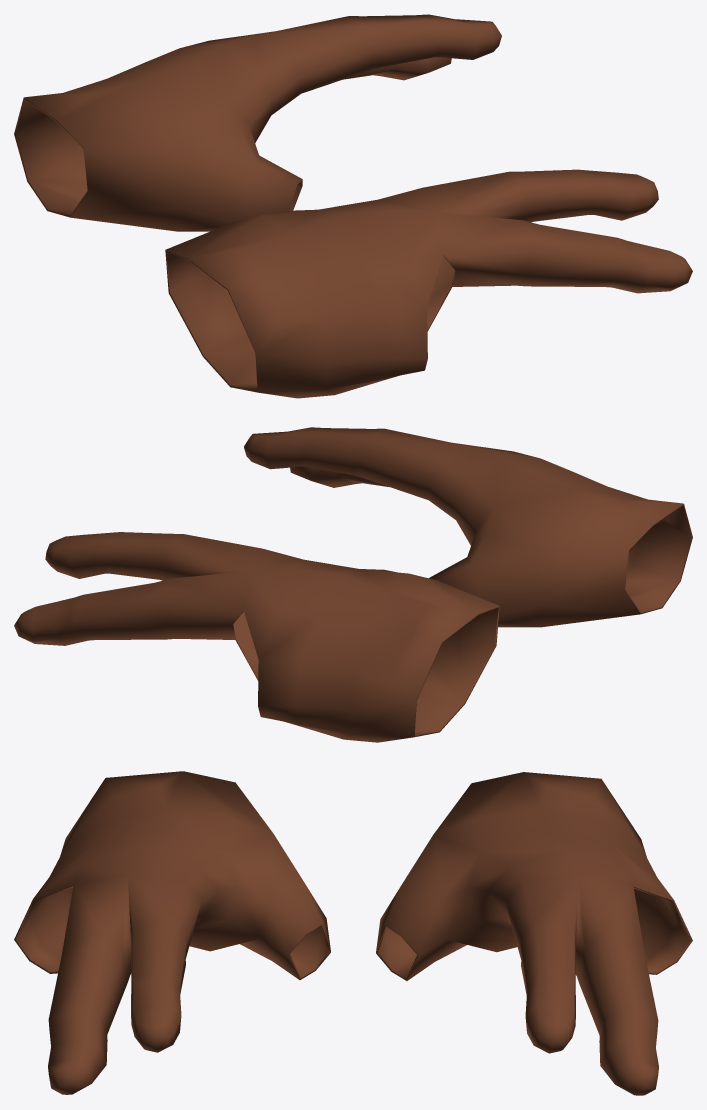
The model's file is ArcherGloves.fbx.
The picture shows the model from 3 angles, top to bottom: view 1: azimuth 30°, elevation 25°; view 2: azimuth 150°, elevation 25°; view 3: azimuth 270°, elevation 25°; orthographic projection. The views are drawn at different scales.
Visible parts, largest first — view 1: ArchersGloves; view 2: ArchersGloves; view 3: ArchersGloves.
Boxes of the visible parts, <box> form: ArchersGloves: <box>14,14,692,398</box>; ArchersGloves: <box>14,427,692,742</box>; ArchersGloves: <box>14,771,692,1095</box>.
Bounding box in the file's own units: 0.2308 × 0.2638 × 0.0717.
